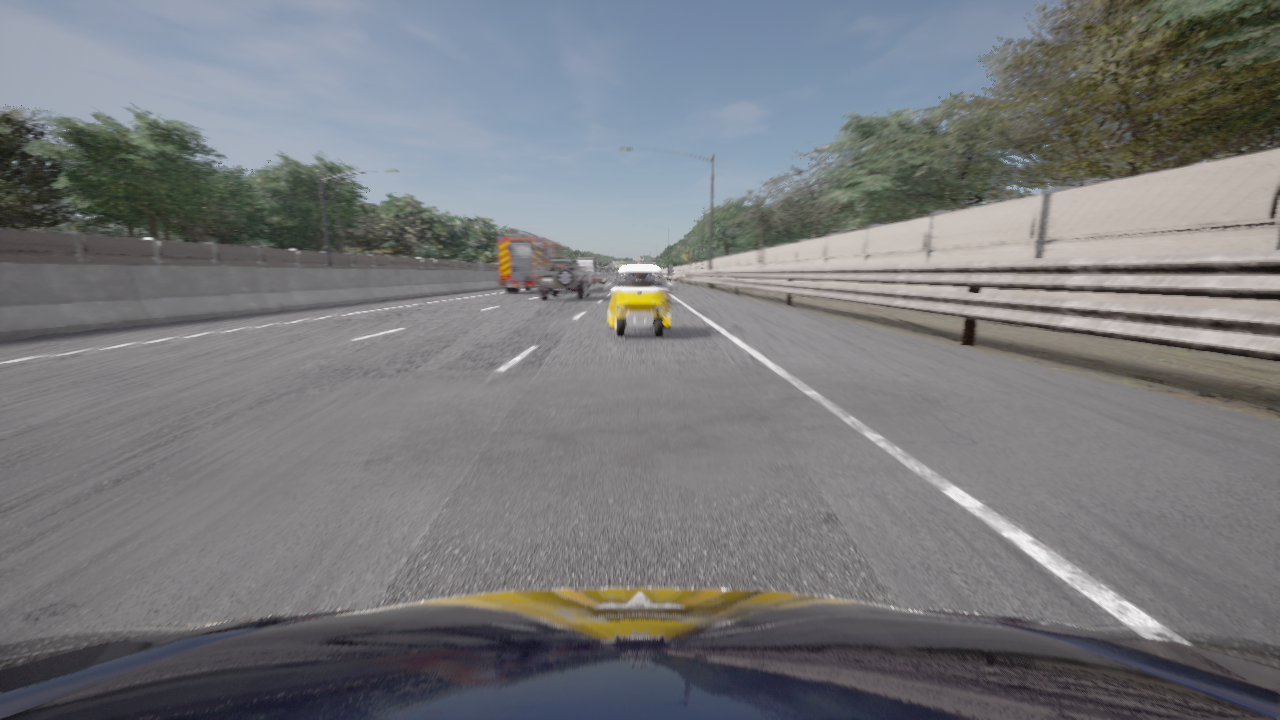cyclist: (0, 588, 1279, 719), (605, 265, 674, 337), (498, 229, 568, 292), (538, 259, 590, 299), (576, 257, 600, 274), (588, 273, 610, 286)
